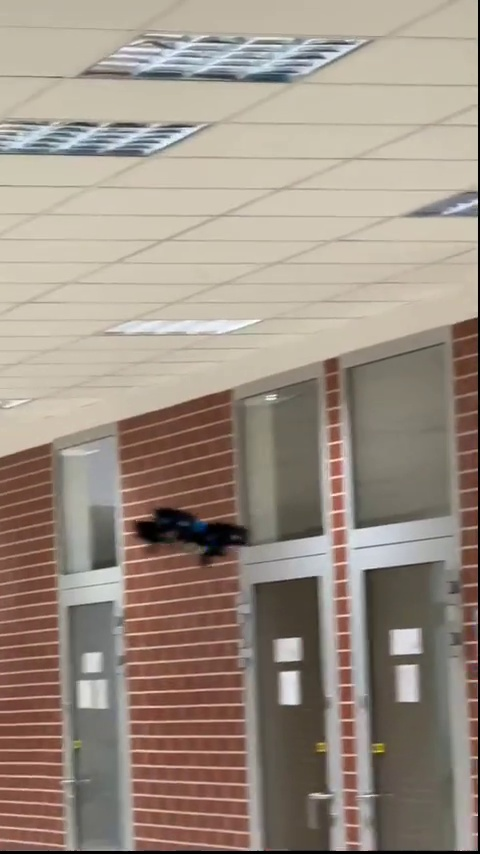drone: (134, 507, 251, 570)
